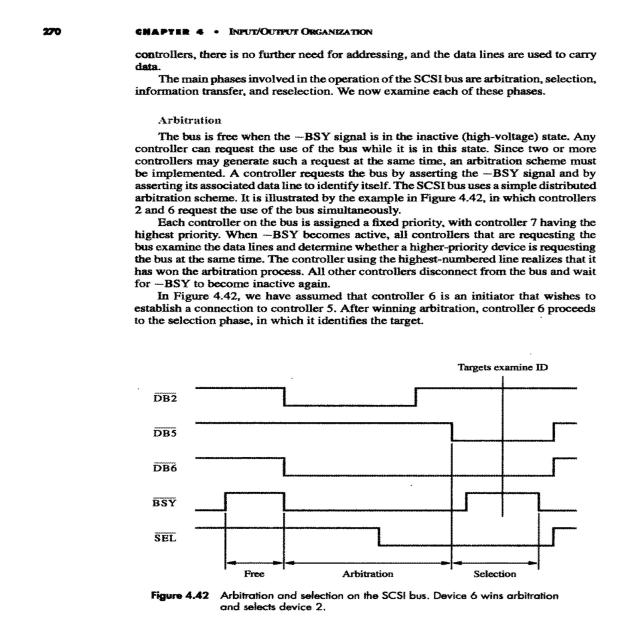diagram: (96, 330, 640, 625)
